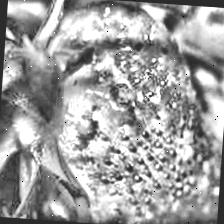Powdery Mildew Fruit: (13, 0, 224, 224)
